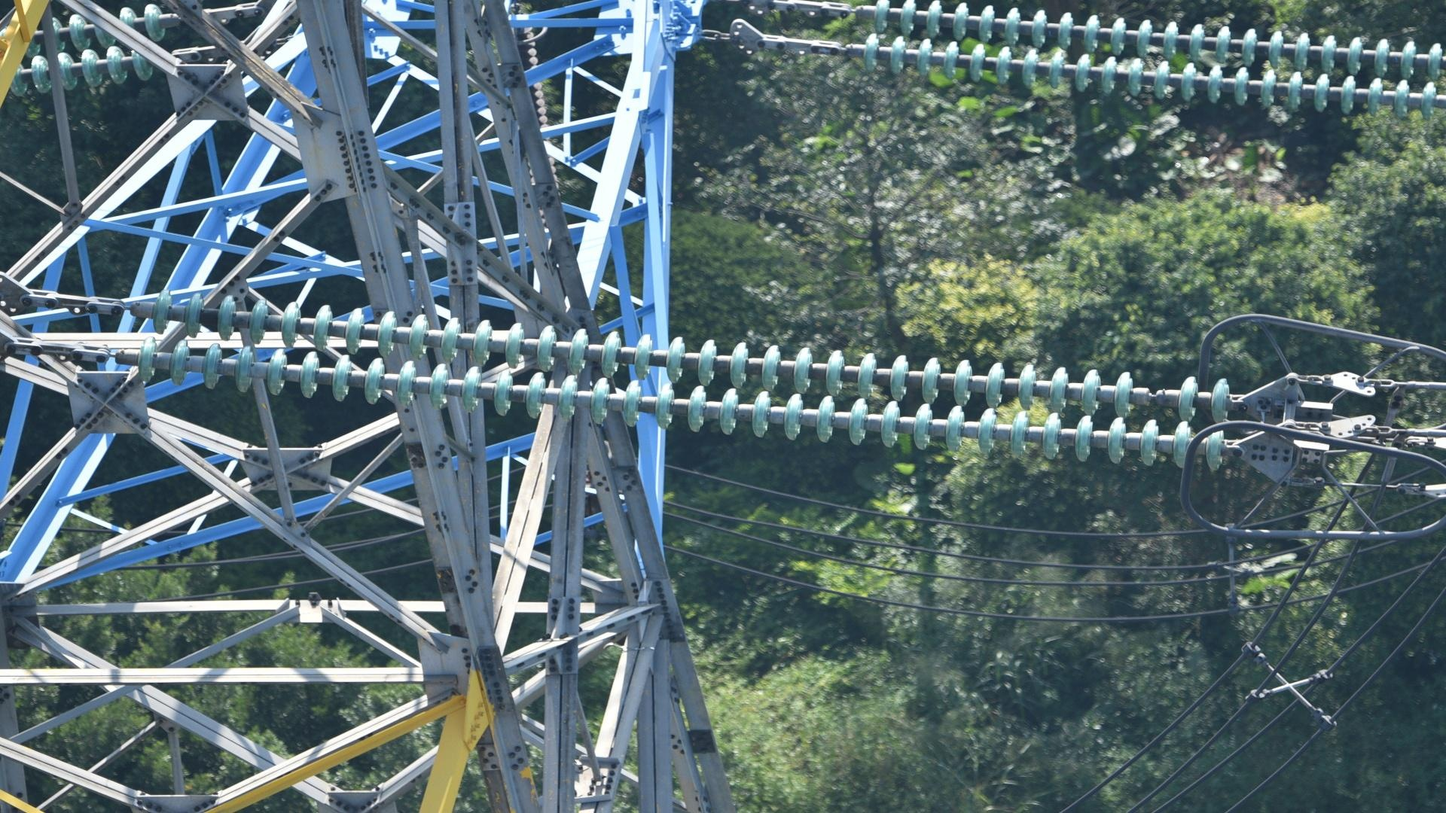insulator: (131, 284, 1234, 478), (857, 1, 1446, 126), (1, 1, 174, 105)
